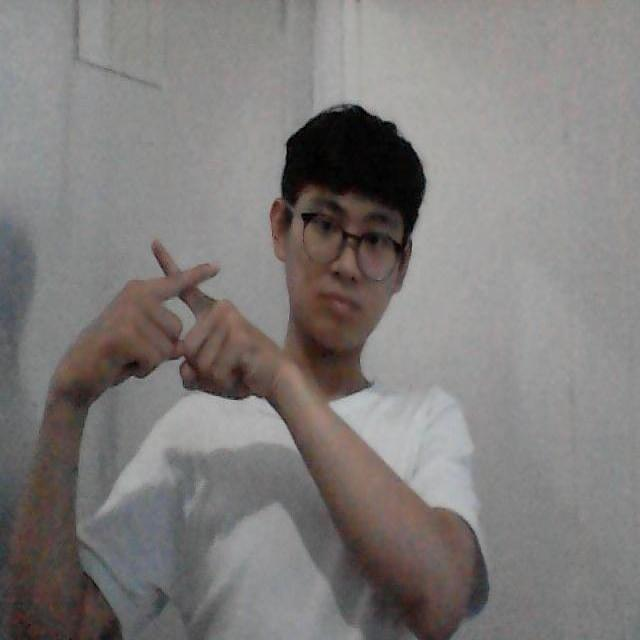X: (75, 218, 287, 386)
